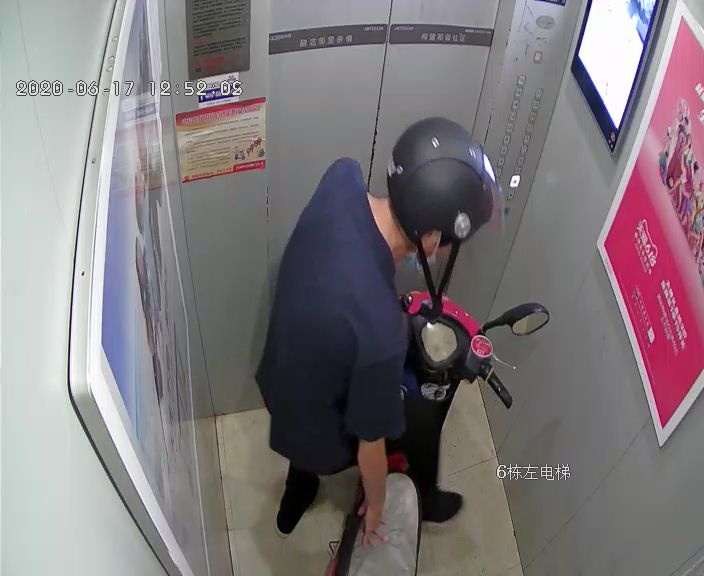Electric-bicycle: (334, 216, 549, 576)
